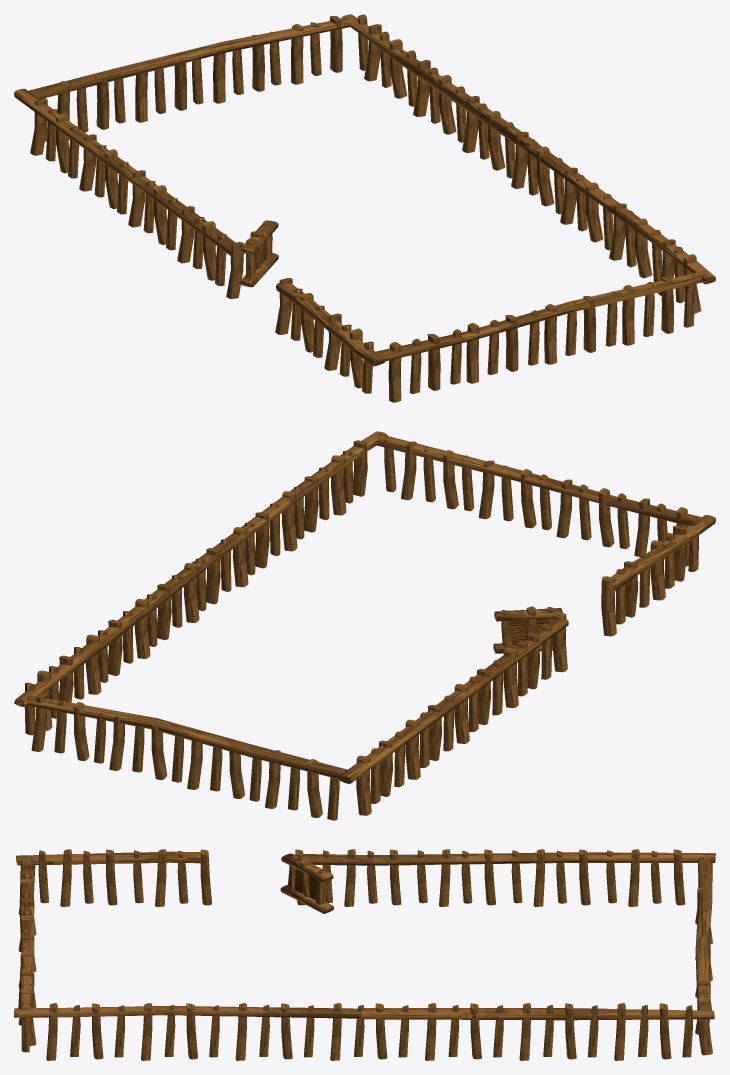
Rendered from Barriers.glb.
The picture shows the model from 3 angles, top to bottom: view 1: azimuth 30°, elevation 25°; view 2: azimuth 150°, elevation 25°; view 3: azimuth 270°, elevation 25°; orthographic projection. The views are drawn at different scales.
Parts seen in each view (by area): view 1: Barriers; view 2: Barriers; view 3: Barriers.
Part boxes in pixels (box(x1,y1,x2,y2)): Barriers: box(14, 14, 715, 402); Barriers: box(14, 431, 715, 820); Barriers: box(14, 849, 715, 1060).
Size of the model in its own units: 12.95 by 2.13 by 23.63.
2 materials, 2 textured.
